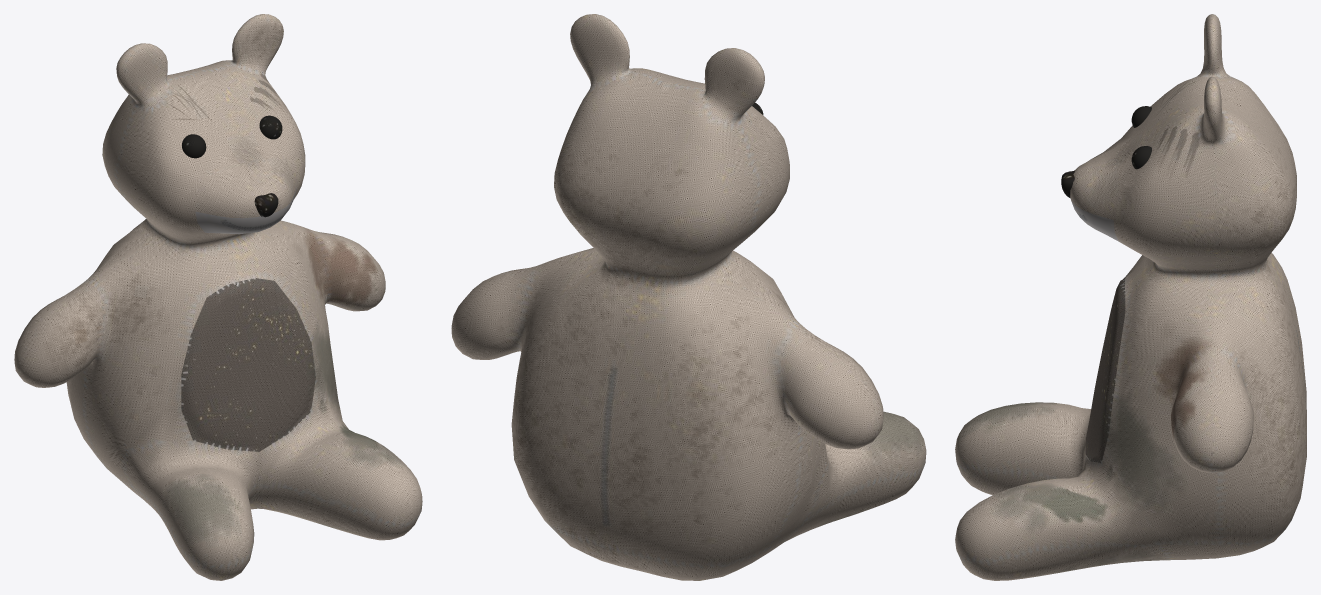
Rendered from grungy_teddy_bear.glb.
3 views of the same model, side by side, from view 1: azimuth 30°, elevation 25°; view 2: azimuth 150°, elevation 25°; view 3: azimuth 270°, elevation 25° (orthographic). The views are drawn at different scales.
Parts seen in each view (by area): view 1: TeddyBear; view 2: TeddyBear; view 3: TeddyBear.
Boxes of the visible parts, box(x1,y1,x2,y2) form: TeddyBear: box(14, 14, 422, 580); TeddyBear: box(451, 14, 926, 580); TeddyBear: box(955, 14, 1306, 580).
Size of the model in its own units: 1.67 by 2 by 1.3.
1 material, 1 textured.
